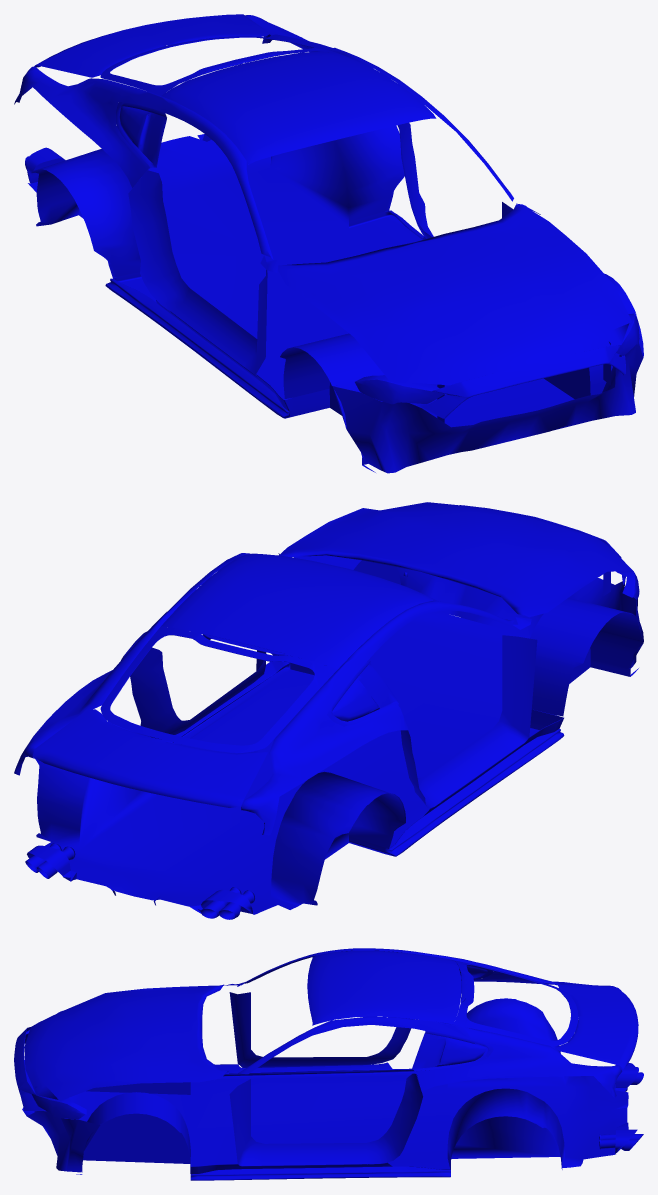
The model's file is MustangLoid_base.fbx.
3 views of the same model, one above another, from view 1: azimuth 30°, elevation 25°; view 2: azimuth 150°, elevation 25°; view 3: azimuth 270°, elevation 25° (orthographic). The views are drawn at different scales.
Visible parts, largest first — view 1: Retopo_polySurface53; view 2: Retopo_polySurface53; view 3: Retopo_polySurface53.
Part boxes in pixels (x1,y1,x2,y2): Retopo_polySurface53: [14, 14, 643, 473]; Retopo_polySurface53: [14, 502, 643, 919]; Retopo_polySurface53: [14, 948, 643, 1180].
Bounding box in the file's own units: 205 × 124 × 463.
